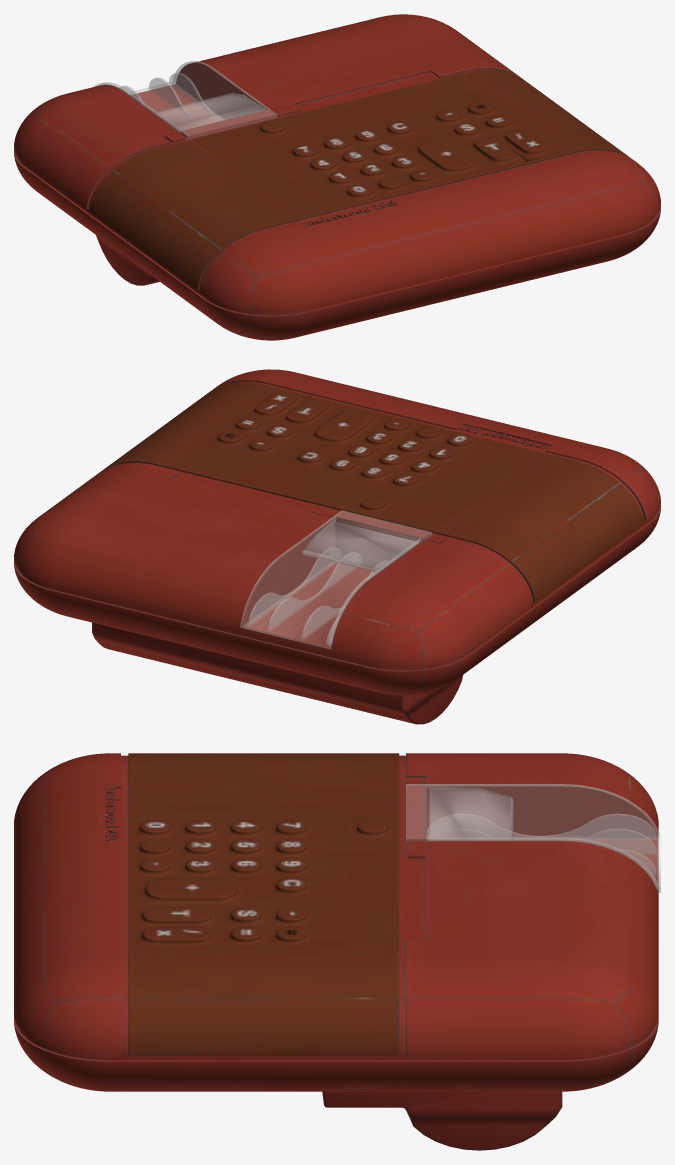
File: olivetti-user-v41.glb
3 renders of one model, top to bottom at view 1: azimuth 30°, elevation 25°; view 2: azimuth 150°, elevation 25°; view 3: azimuth 270°, elevation 25°, orthographic. The views are drawn at different scales.
Parts seen in each view (by area): view 1: olivetti-user-v41:0, olivetti-user-v41:1, olivetti-user-v41:3; view 2: olivetti-user-v41:0, olivetti-user-v41:1, olivetti-user-v41:3; view 3: olivetti-user-v41:0, olivetti-user-v41:1, olivetti-user-v41:3.
Boxes of the visible parts, <box> form: olivetti-user-v41:0: <box>14,14,660,340</box>; olivetti-user-v41:1: <box>89,69,629,290</box>; olivetti-user-v41:3: <box>94,61,276,139</box>; olivetti-user-v41:0: <box>14,369,660,724</box>; olivetti-user-v41:1: <box>102,382,643,602</box>; olivetti-user-v41:3: <box>240,510,432,649</box>; olivetti-user-v41:0: <box>14,753,658,1150</box>; olivetti-user-v41:1: <box>128,753,399,1055</box>; olivetti-user-v41:3: <box>406,784,660,892</box>.
Size of the model in its own units: 0.2989 by 0.1025 by 0.3.
Materials: 4 (3 with a texture image).
